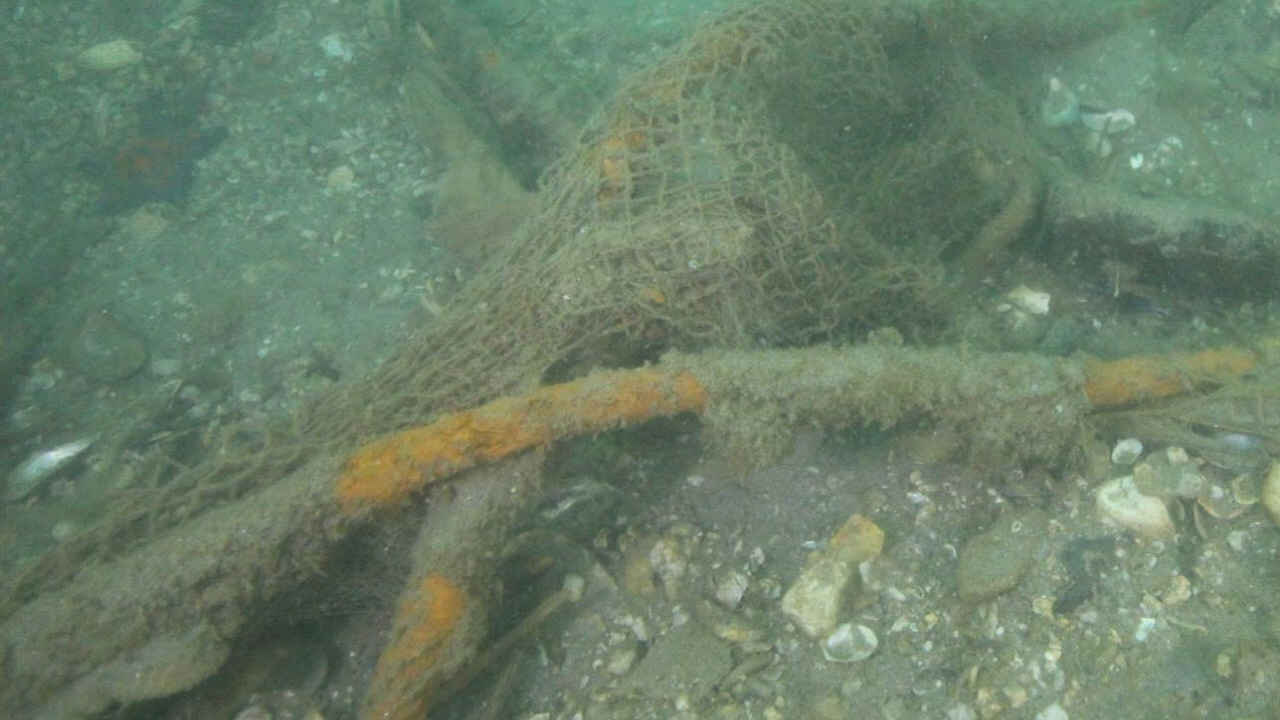fish net: (0, 0, 935, 623)
